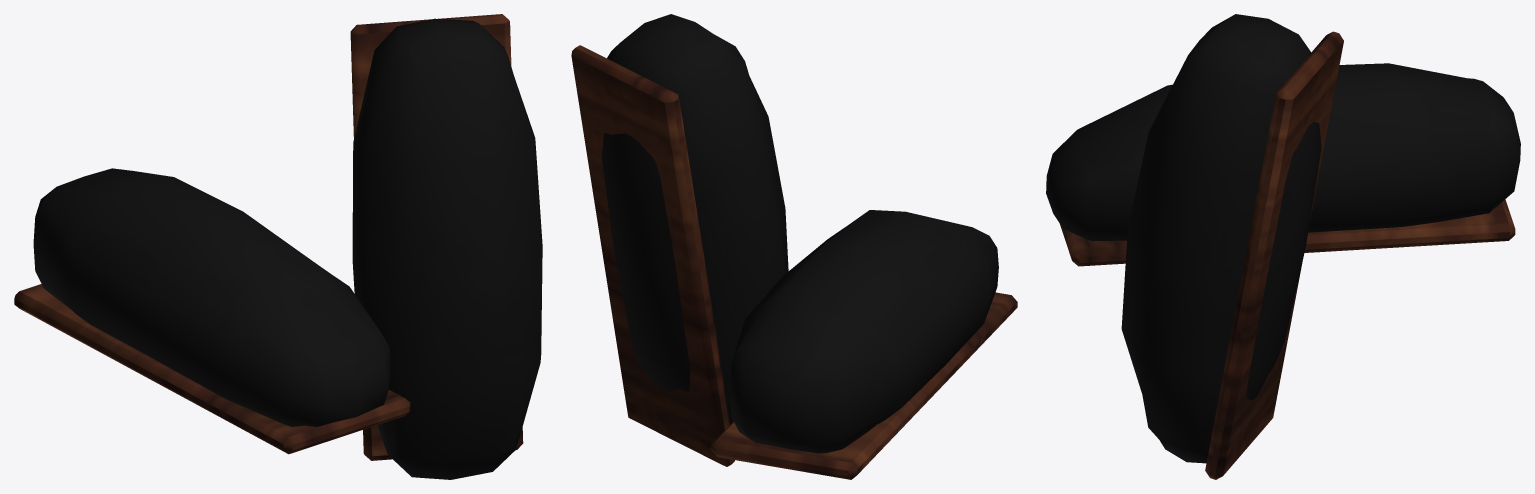
Rendered from Shoes_Pair.fbx.
3 renders of one model, left to right at view 1: azimuth 30°, elevation 25°; view 2: azimuth 150°, elevation 25°; view 3: azimuth 270°, elevation 25°, orthographic. The views are drawn at different scales.
Parts seen in each view (by area): view 1: Shoes_Pair; view 2: Shoes_Pair; view 3: Shoes_Pair.
Part boxes in pixels (x1=…): Shoes_Pair: x1=14, y1=14, x2=542, y2=479; Shoes_Pair: x1=571, y1=14, x2=1017, y2=479; Shoes_Pair: x1=1046, y1=14, x2=1520, y2=479.
Bounding box in the file's own units: 0.2822 × 0.298 × 0.2971.
